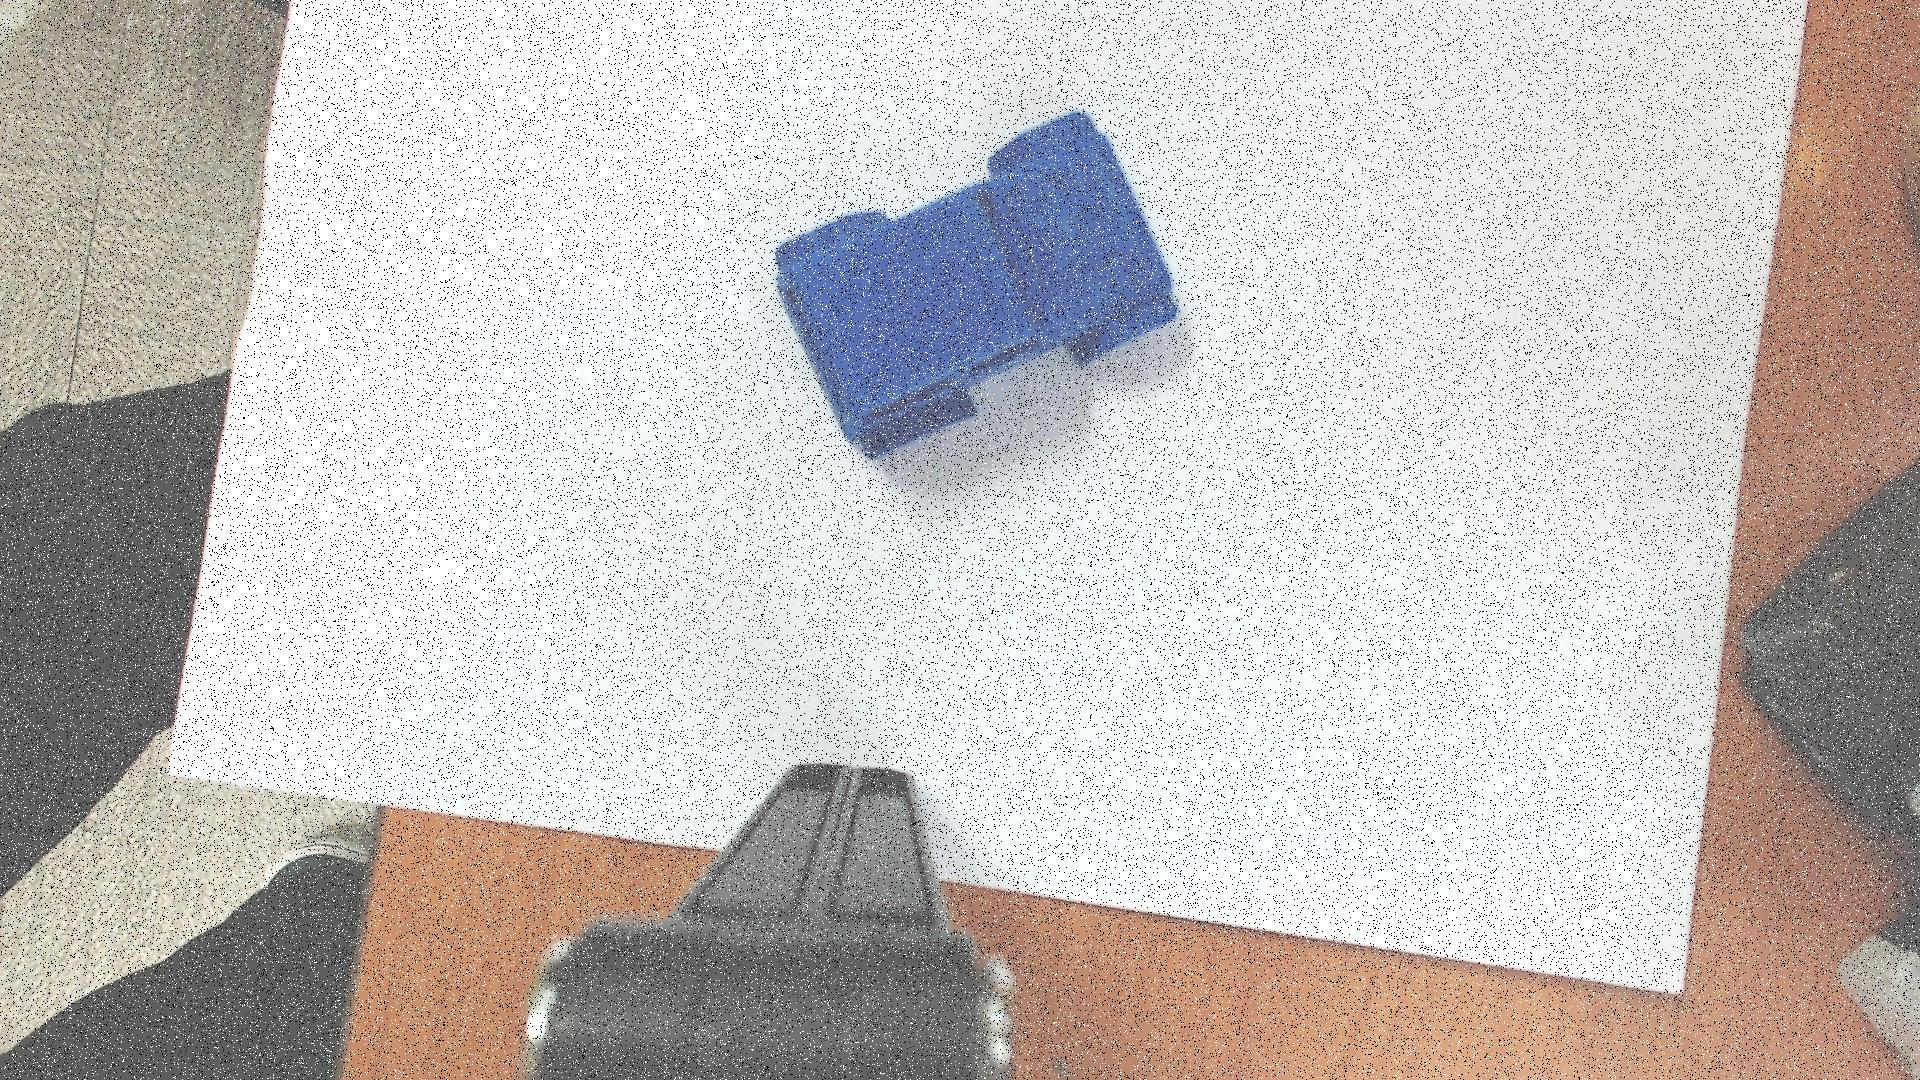Upper_ng: (775, 112, 1178, 458)
